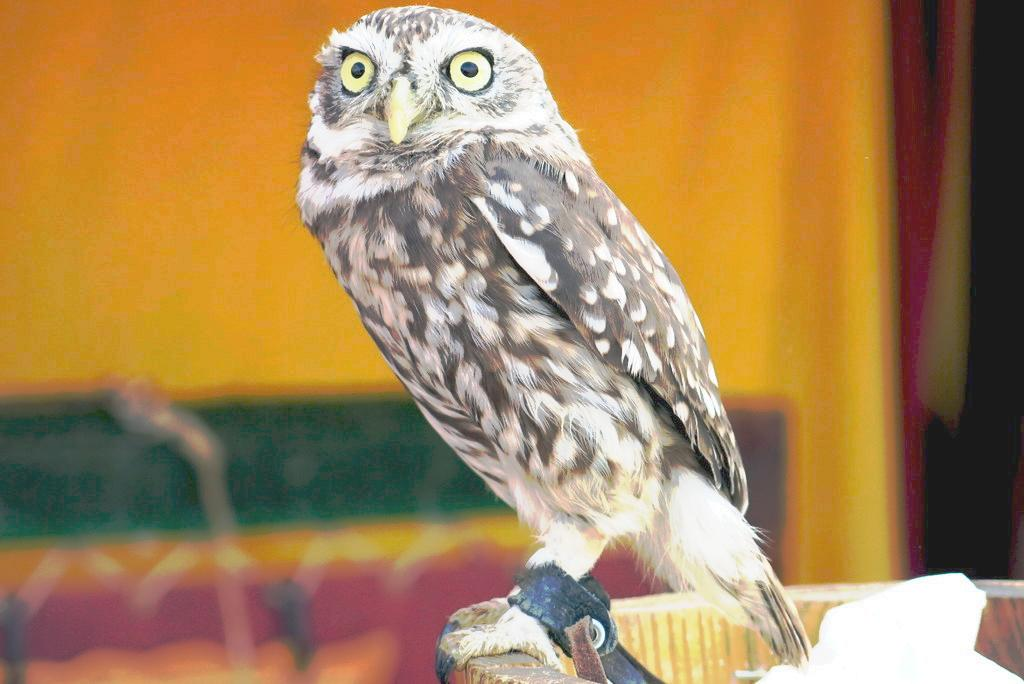Owl: (290, 0, 812, 678)
